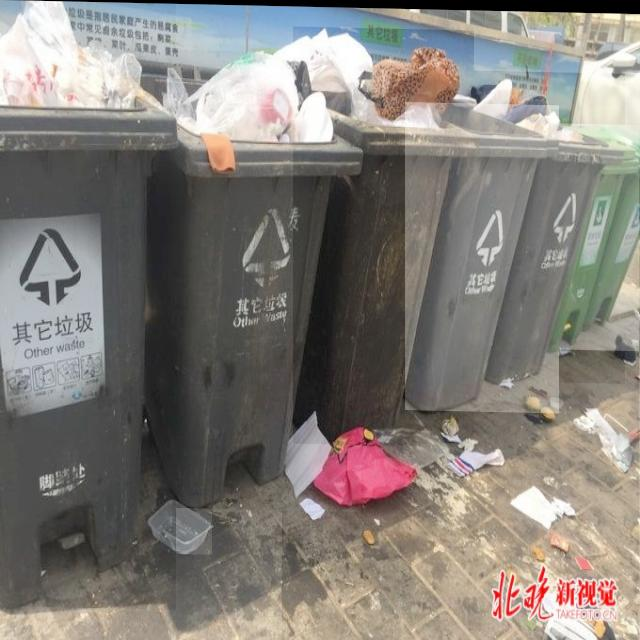garbage: (282, 326, 639, 640), (146, 493, 212, 553)
garbage_bin: (405, 100, 559, 411), (547, 121, 639, 349)
overflow: (0, 0, 176, 609), (143, 49, 361, 511), (293, 25, 474, 445), (471, 68, 625, 381)
